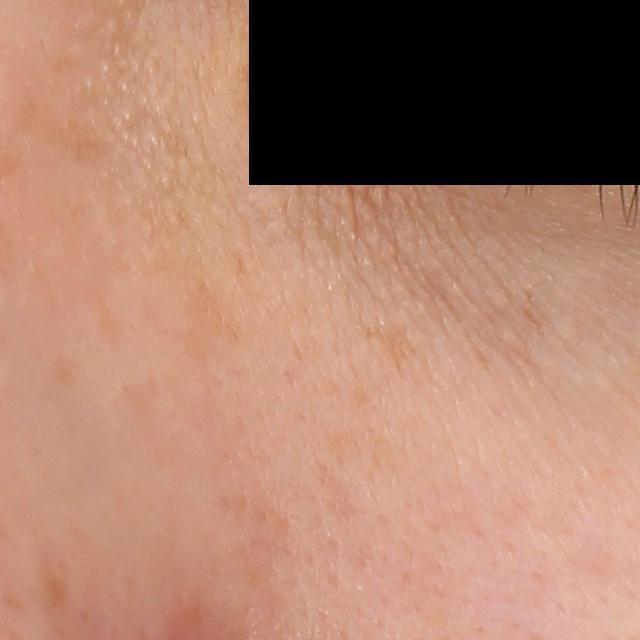melasma: (179, 284, 249, 374), (365, 325, 414, 377), (63, 112, 105, 169)
